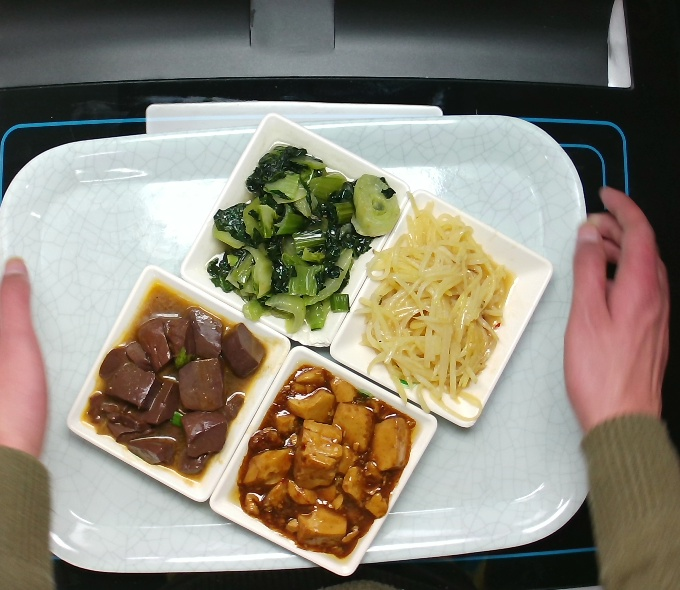wcq-MaPoDouFu: (230, 369, 417, 557)
wcq-NiuXue: (79, 297, 266, 485)
wcq-TuDouSi: (356, 193, 517, 418)
wcq-YouDongCai: (210, 146, 397, 334)
